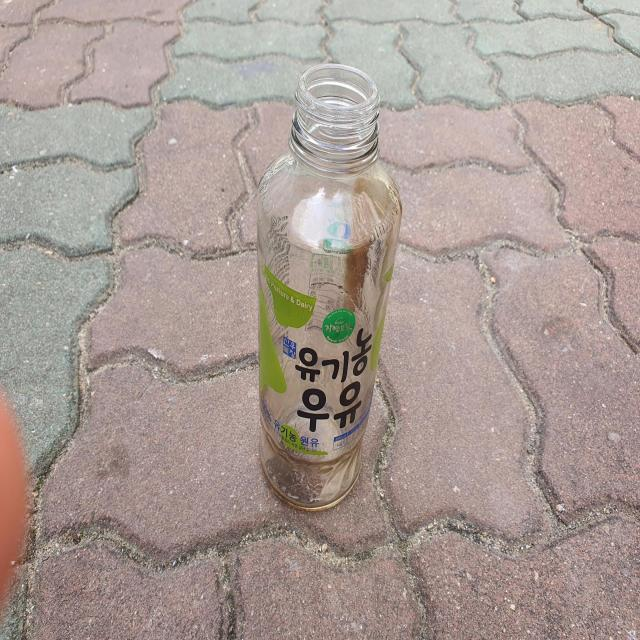glass: (258, 63, 402, 509)
